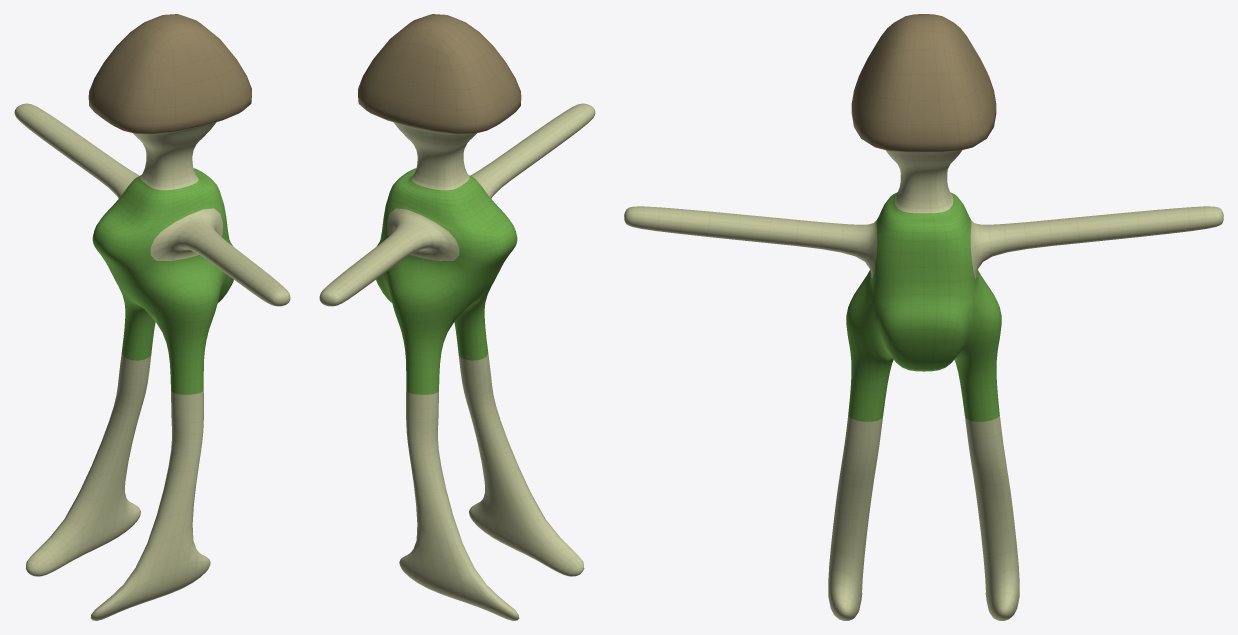
The model's file is Emilija_Oseverova_uzd1_03blend.glb.
3 views of the same model, side by side, from view 1: azimuth 30°, elevation 25°; view 2: azimuth 150°, elevation 25°; view 3: azimuth 270°, elevation 25° (orthographic). The views are drawn at different scales.
Parts seen in each view (by area): view 1: Cube.001; view 2: Cube.001; view 3: Cube.001.
Boxes of the visible parts, left/top/right/bottom form: Cube.001: left=14, top=14, right=290, bottom=620; Cube.001: left=319, top=14, right=595, bottom=620; Cube.001: left=624, top=14, right=1223, bottom=620.
Bounding box in the file's own units: 3.51 × 10.33 × 8.87.
Materials: 1 (1 with a texture image).
